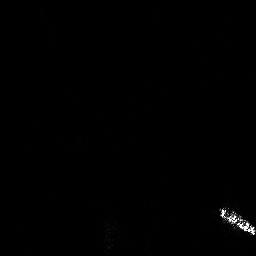ship: (216, 202, 256, 239)
